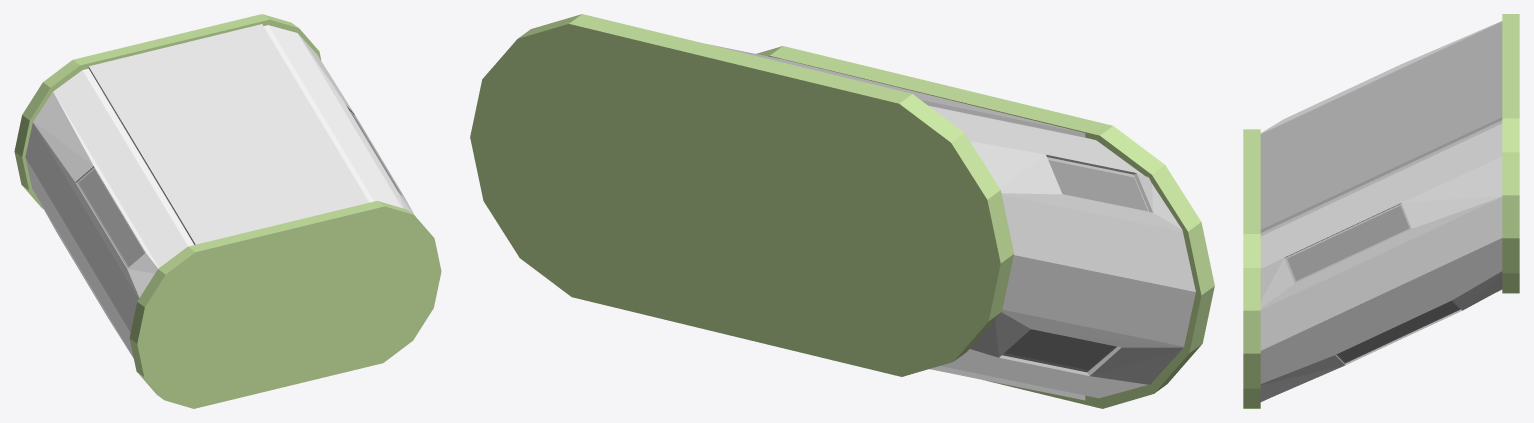
The picture shows the model from 3 angles, left to right: view 1: azimuth 30°, elevation 25°; view 2: azimuth 150°, elevation 25°; view 3: azimuth 270°, elevation 25°; orthographic projection. The views are drawn at different scales.
Parts seen in each view (by area): view 1: Cylinder_10; view 2: Cylinder_10; view 3: Cylinder_10.
Boxes of the visible parts, x1,y1,x2,y2 form: Cylinder_10: (14,14,441,408); Cylinder_10: (470,14,1214,408); Cylinder_10: (1243,14,1519,408).
Bounding box in the file's own units: 601 × 490 × 420.
